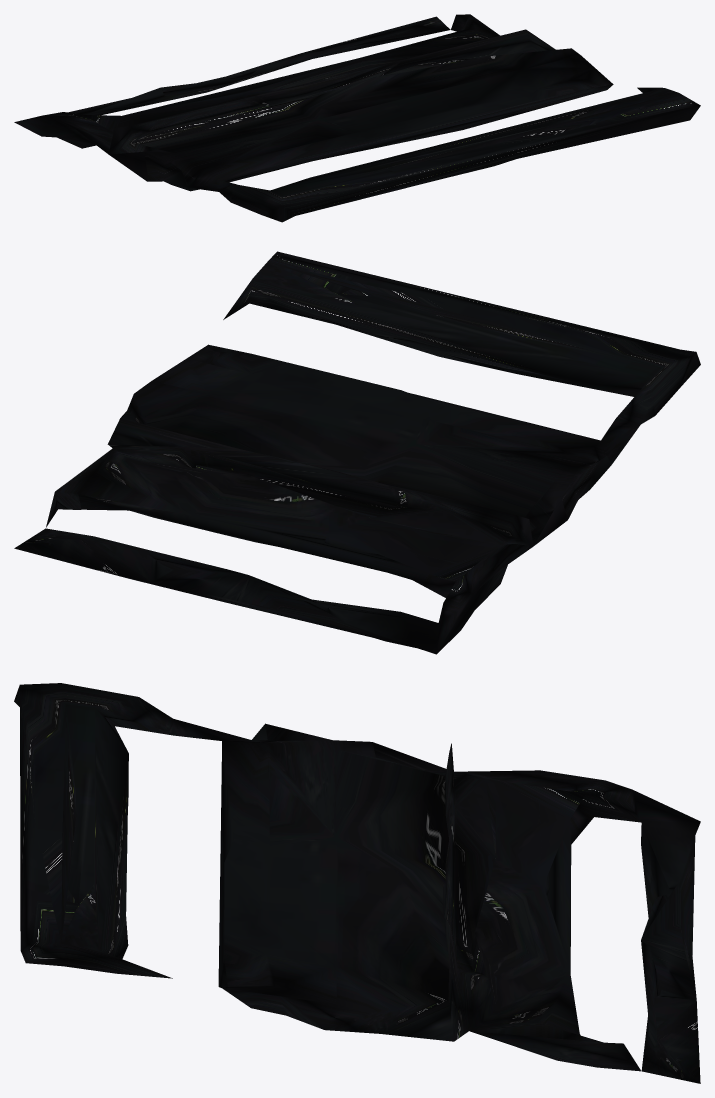
Rendered from zatla-growlight-low.glb.
3 views of the same model, one above another, from view 1: azimuth 30°, elevation 25°; view 2: azimuth 150°, elevation 25°; view 3: azimuth 270°, elevation 25° (orthographic). The views are drawn at different scales.
Parts seen in each view (by area): view 1: model; view 2: model; view 3: model.
Boxes of the visible parts, <box> form: model: <box>14,14,700,222</box>; model: <box>14,251,700,654</box>; model: <box>14,683,700,1083</box>.
Size of the model in its own units: 0.141 by 0.035 by 0.1496.
Materials: 1 (1 with a texture image).
